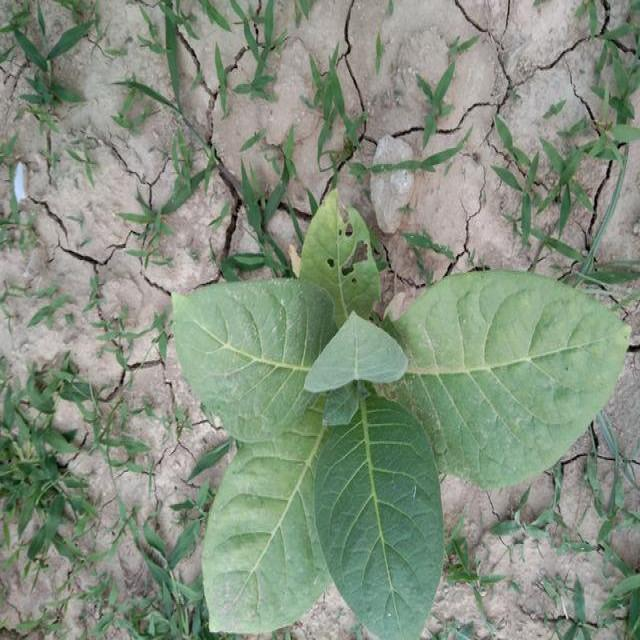crop: (156, 195, 626, 640)
